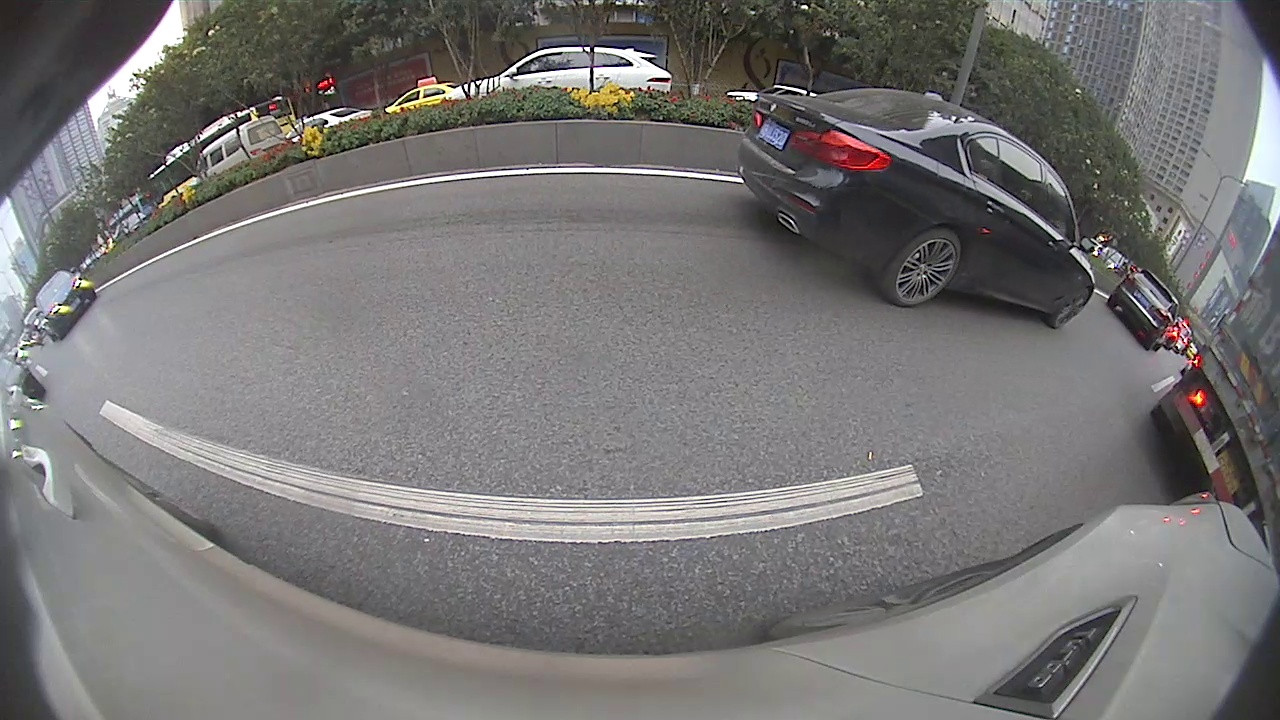car: (438, 158, 539, 220), (657, 150, 725, 199)
front: (530, 185, 541, 201)
person: (798, 149, 813, 185), (783, 149, 797, 183)
rear: (503, 186, 515, 210)
